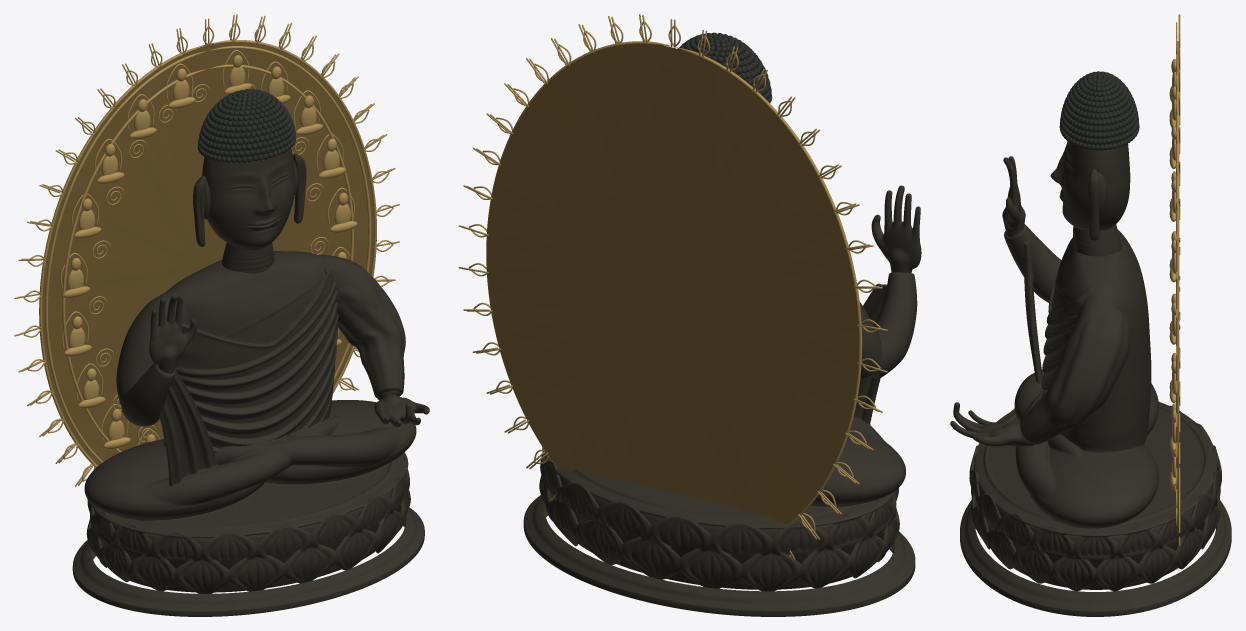
File: buddha-detail.glb
3 views of the same model, side by side, from view 1: azimuth 30°, elevation 25°; view 2: azimuth 150°, elevation 25°; view 3: azimuth 270°, elevation 25° (orthographic). The views are drawn at different scales.
Visible parts, largest first — view 1: Original carved sculpture / body, New Vairocana / field, New Vairocana / gold, New Vairocana / head, Original carved sculpture / hair, New Vairocana / hand-blessing, New Vairocana / hand-cupped; view 2: New Vairocana / field, Original carved sculpture / body, New Vairocana / gold, New Vairocana / hand-blessing, Original carved sculpture / hair; view 3: Original carved sculpture / body, New Vairocana / head, Original carved sculpture / hair, New Vairocana / gold, New Vairocana / hand-cupped, New Vairocana / hand-blessing.
Boxes of the visible parts, x1,y1,x2,y2 form: Original carved sculpture / body: (72,251,424,616); New Vairocana / field: (42,42,373,465); New Vairocana / gold: (14,14,399,486); New Vairocana / head: (193,148,306,273); Original carved sculpture / hair: (197,89,296,162); New Vairocana / hand-blessing: (149,294,197,373); New Vairocana / hand-cupped: (374,393,429,427); New Vairocana / field: (487,43,859,524); Original carved sculpture / body: (523,272,917,616); New Vairocana / gold: (458,14,887,559); New Vairocana / hand-blessing: (871,185,921,272); Original carved sculpture / hair: (678,32,772,103); Original carved sculpture / body: (960,224,1231,616); New Vairocana / head: (1050,141,1130,256); Original carved sculpture / hair: (1059,71,1139,150); New Vairocana / gold: (1169,14,1180,545); New Vairocana / hand-cupped: (950,402,1034,446); New Vairocana / hand-blessing: (1002,156,1025,236).
Size of the model in its own units: 4.7 by 5.93 by 2.96.
